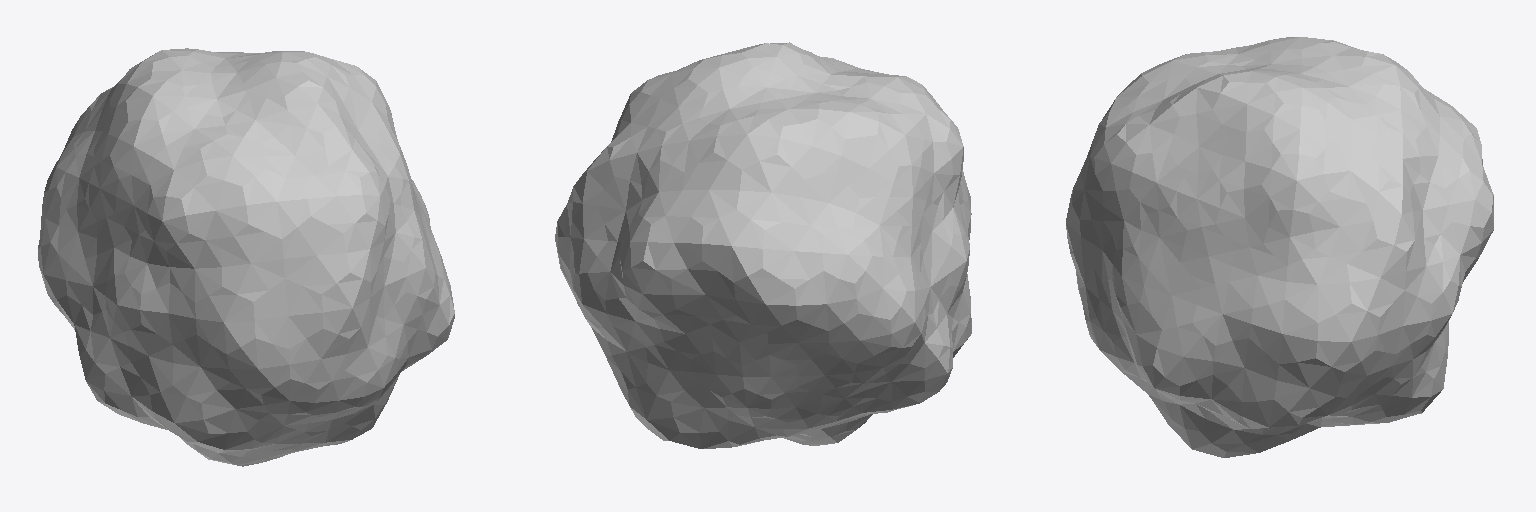
The model's file is asteroid4.obj.
The picture shows the model from 3 angles: view 1: azimuth 30°, elevation 25°; view 2: azimuth 150°, elevation 25°; view 3: azimuth 270°, elevation 25°; orthographic projection.
Visible parts, largest first — view 1: Asteroid4; view 2: Asteroid4; view 3: Asteroid4.
Boxes of the visible parts, x1,y1,x2,y2 form: Asteroid4: [38, 48, 454, 466]; Asteroid4: [555, 42, 971, 448]; Asteroid4: [1066, 37, 1493, 457].
Bounding box in the file's own units: 1.89 × 1.91 × 1.95.